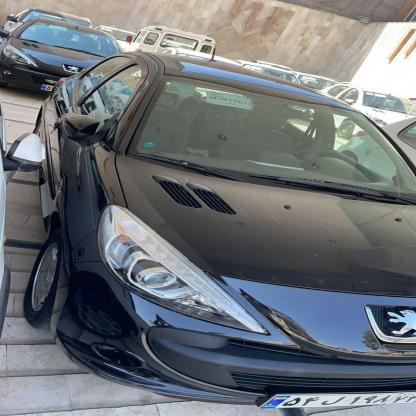Car: (0, 49, 416, 416), (0, 23, 113, 93), (312, 88, 412, 133)
